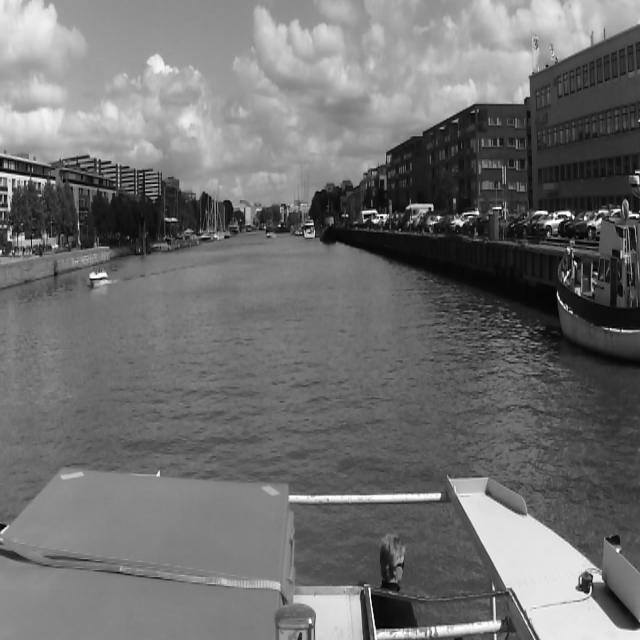ship: (554, 201, 640, 363), (202, 183, 226, 242), (153, 185, 173, 255), (86, 263, 110, 291), (265, 220, 289, 234), (300, 217, 316, 237), (265, 217, 273, 231)
